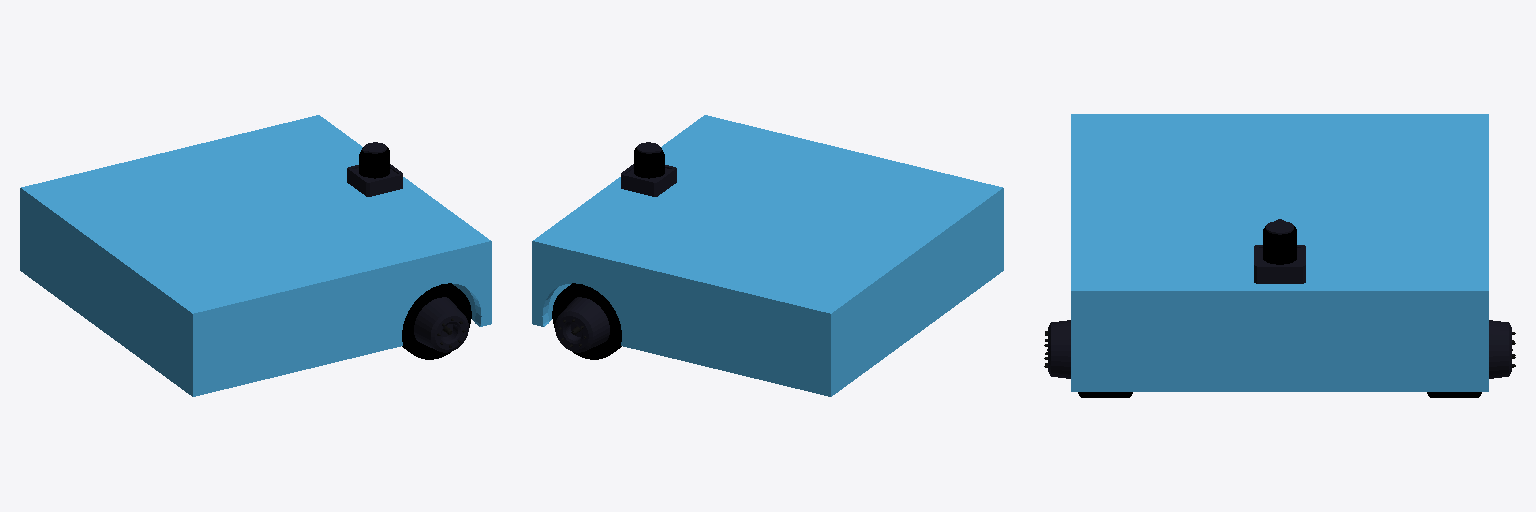
robot.urdf — LidarRobot1:
<?xml version="1.0"?>
<robot name="LidarRobot1">
<!--base-->
    <!--base_footprint-->
    <link name="base_footprint" />

    <!--base_joint-->
    <joint name="base_joint" type="fixed">
        <origin xyz="0 0 0" rpy="0 0 0" />
        <parent link="base_footprint" />
        <child link="base_link" />
    </joint>

    <!--base_link-->
    <link name="base_link">
        <visual>
            <origin xyz="0 0 0" rpy="0 0 0" />
            <geometry>
                <mesh filename="package://LidarRobot1_description/meshes/LidarRobot1_base.dae" />
            </geometry>
        </visual>

        <collision>
            <origin xyz="0 0 0" rpy="0 0 0" />
            <geometry>
                <mesh filename="package://LidarRobot1_description/meshes/LidarRobot1_base.dae" />
            </geometry>
        </collision>

        <inertial>
            <origin xyz="0 0 0.13" rpy="0 0 0" />
            <mass value="2" />
            <inertia ixx="0.06427" iyy="0.06427" izz="0.12000" ixy="0" ixz="0" iyz="0" /><!--<box size="0.6 0.6 0.16" />-->
        </inertial>
    </link>

    <!--base_gazebo-->
    <gazebo reference="base_link">
        <selfCollide>false</selfCollide>
        <mu1 value="0.5" />
        <mu2 value="0.5" />
    </gazebo>

<!--wheels-->
  <!--left-->
    <!--leftWheel_joint-->
    <joint name="leftWheel_joint" type="continuous">
        <axis xyz="0 1 0" />
        <origin xyz="0.2 0.25 0.07" rpy="0 0 0" />
        <parent link="base_link" />
        <child link="leftWheel_link" />
        <dynamics damping="1" friction="100" />
    </joint>

    <!--leftWheel_link-->
    <link name="leftWheel_link">
        <visual>
            <origin xyz="0 0 0" rpy="0 0 0" />
            <geometry>
                <mesh filename="package://LidarRobot1_description/meshes/LidarRobot1_leftWheel.dae" />
            </geometry>
        </visual>

        <collision>
            <origin xyz="0 0 0" rpy="0 0 0" />
            <geometry>
                <mesh filename="package://LidarRobot1_description/meshes/LidarRobot1_leftWheel.dae" />
            </geometry>
        </collision>

        <inertial>
            <origin xyz="0 0 0" rpy="1.57 0 0" />
            <mass value="0.4" />
            <inertia ixx="0.00070" iyy="0.00070" izz="0.00098" ixy="0" ixz="0" iyz="0" /><!--<cylinder length="0.08" radius="0.07" />-->
        </inertial>
    </link>

    <!--leftWheel_trans-->
    <transmission name="leftWheel_trans">
        <type>transmission_interface/SimpleTransmission</type>
        <joint name="leftWheel_joint">
            <hardwareInterface>hardware_interface/VelocityJointInterface</hardwareInterface>
        </joint>
        <actuator name="leftWheel_motor">
            <hardwareInterface>hardware_interface/VelocityJointInterface</hardwareInterface>
            <mechanicalReduction>30</mechanicalReduction>
        </actuator>
    </transmission>

    <!--leftWheel_gazebo-->
    <gazebo reference="leftWheel_link">
        <selfCollide>false</selfCollide>
        <mu1 value="0.9" />
        <mu2 value="0.9" />
    </gazebo>

  <!--right-->
    <!--rightWheel_joint-->
    <joint name="rightWheel_joint" type="continuous">
        <axis xyz="0 1 0" />
        <origin xyz="0.2 -0.25 0.07" rpy="0 0 0" />
        <parent link="base_link" />
        <child link="rightWheel_link" />
        <dynamics damping="1" friction="100" />
    </joint>

    <!--rightWheel_link-->
    <link name="rightWheel_link">
        <visual>
            <origin xyz="0 0 0" rpy="0 0 3.14" />
            <geometry>
                <mesh filename="package://LidarRobot1_description/meshes/LidarRobot1_leftWheel.dae" />
            </geometry>
        </visual>
        
        <collision>
            <origin xyz="0 0 0" rpy="0 0 3.14" />
            <geometry>
                <mesh filename="package://LidarRobot1_description/meshes/LidarRobot1_leftWheel.dae" />
            </geometry>
        </collision>

        <inertial>
            <origin xyz="0 0 0" rpy="1.57 0 0" />
            <mass value="0.4" />
            <inertia ixx="0.00070" iyy="0.00070" izz="0.00098" ixy="0" ixz="0" iyz="0" /><!--<cylinder length="0.08" radius="0.07" />-->
        </inertial>
    </link>

    <!--rightWheel_trans-->
    <transmission name="rightWheel_trans">
        <type>transmission_interface/SimpleTransmission</type>
        <joint name="rightWheel_joint">
            <hardwareInterface>hardware_interface/VelocityJointInterface</hardwareInterface>
        </joint>
        <actuator name="rightWheel_motor">
            <hardwareInterface>hardware_interface/VelocityJointInterface</hardwareInterface>
            <mechanicalReduction>30</mechanicalReduction>
        </actuator>
    </transmission>

    <!--rightWheel_gazebo-->
    <gazebo reference="rightWheel_link">
        <selfCollide>false</selfCollide>
        <mu1 value="0.9" />
        <mu2 value="0.9" />
    </gazebo>

  <!--rear-->
    <!--trackleWheelConector_joint-->
    <joint name="trackleWheelConector_joint" type="fixed">
        <origin xyz="-0.2 0 0.03" rpy="0 0 0" />
        <parent link="base_link" />
        <child link="trackleWheelConector_link" />
    </joint>

    <!--trackleWheelConector_link-->
    <link name="trackleWheelConector_link">
        <visual>
            <origin xyz="0 0 0" rpy="0 0 0" />
            <geometry>
                <mesh filename="package://LidarRobot1_description/meshes/LidarRobot1_trackleWheelConector.dae" />
            </geometry>
        </visual>

        <collision>
            <origin xyz="0 0 0" rpy="0 0 0" />
            <geometry>
                <mesh filename="package://LidarRobot1_description/meshes/LidarRobot1_trackleWheelConector.dae" />
            </geometry>
        </collision>

        <inertial>
            <origin xyz="0 0 0" rpy="0 0 0" />
            <mass value="0.1" />
            <inertia ixx="0.00009" iyy="0.00009" izz="0.00002" ixy="0" ixz="0" iyz="0" /><!--<cylinder length="0.1" radius="0.02" />-->
        </inertial>
    </link>

    <!--trackleWheelConector_gazebo-->
    <gazebo reference="trackleWheelConector_link">
        <selfCollide>false</selfCollide>
        <mu1 value="0.5" />
        <mu2 value="0.5" />
    </gazebo>

    <!--trackleWheel_joint-->
    <joint name="trackleWheel_joint" type="fixed">
        <origin xyz="0 0 0" rpy="0 0 0" />
        <parent link="trackleWheelConector_link" />
        <child link="trackleWheel_link" />
    </joint>

    <!--trackleWheel_link-->
    <link name="trackleWheel_link">
        <visual>
            <origin xyz="0 0 0" rpy="0 0 0" />
            <geometry>
                <mesh filename="package://LidarRobot1_description/meshes/LidarRobot1_trackleWheel.dae" />
            </geometry>
        </visual>
        
        <collision>
            <origin xyz="0 0 0" rpy="0 0 0" />
            <geometry>
                <sphere radius="0.03" />
            </geometry>
        </collision>

        <inertial>
            <origin xyz="0 0 0" rpy="1.57 0 0" />
            <mass value="0.2" />
            <inertia ixx="0.00007" iyy="0.00007" izz="0.00009" ixy="0" ixz="0" iyz="0" /><!--<cylinder length="0.04" radius="0.03" />-->
        </inertial>
    </link>

    <!--trackleWheel_gazebo-->
    <gazebo reference="trackleWheel_link">
        <selfCollide>false</selfCollide>
        <mu1 value="0.1" />
        <mu2 value="0.1" />
    </gazebo>

<!--sensors-->
  <!--lrf-->
    <!--lrf_joint-->
    <joint name="lrf_joint" type="fixed">
        <origin xyz="0.24 0 0.245" rpy="0 0 0" />
        <parent link="base_link" />
        <child link="lrf_link" />
    </joint>

    <!--lrf_link-->
    <link name="lrf_link">
        <visual>
            <origin xyz="0 0 0" rpy="0 0 0" />
            <geometry>
                <mesh filename="package://LidarRobot1_description/meshes/LidarRobot1_lrf.dae" />
            </geometry>
        </visual>

        <collision>
            <origin xyz="0 0 0" rpy="0 0 0" />
            <geometry>
                <mesh filename="package://LidarRobot1_description/meshes/LidarRobot1_lrf.dae" />
            </geometry>
        </collision>

        <inertial>
            <origin xyz="0 0 0" rpy="0 0 0" />
            <mass value="0.4" />
            <inertia ixx="0.00023" iyy="0.00023" izz="0.00013" ixy="0" ixz="0" iyz="0" /><!--<cylinder length="0.07" radius="0.025" />-->
        </inertial>
    </link>

    <!--lrf_gazebo-->
    <gazebo reference="lrf_link">
        <selfCollide>false</selfCollide>
        <mu1 value="0.5" />
        <mu2 value="0.5" />

        <sensor type="ray" name="lrf_sensor">
            <pose>0 0 0 0 0 0</pose>
            <visualize>true</visualize>
            <update_rate>40</update_rate>
            <ray>
                <scan>
                    <horizontal>
                        <samples>720</samples>
                        <resolution>1</resolution>
                        <min_angle>-3.14</min_angle> <!--defined in rad-->
                        <max_angle>3.14</max_angle> <!--defined in rad-->
                    </horizontal>
                </scan>
                <range>
                    <min>0.1</min>
                    <max>60</max>
                    <resolution>0.01</resolution>
                </range>
                <noise>
                    <type>gaussian</type>
                    <mean>0</mean>
                    <stddev>0.03</stddev>
                </noise>
            </ray>
            <plugin name="gazebo_ros_lrf_controller" filename="libgazebo_ros_laser.so">
                <topicName>/scan</topicName>
                <frameName>lrf_link</frameName>
            </plugin>
        </sensor>
    </gazebo>

<!--gazebo-->
    <!--gazebo_plugin-->
    <gazebo>
        <plugin name="gazebo_ros_control" filename="libgazebo_ros_control.so">
            <robotNamespace>/LidarRobot1</robotNamespace>
            <robotSimType>gazebo_ros_control/DefaultRobotHWSim</robotSimType>
            <legacyModeNS>true</legacyModeNS>
        </plugin>
    </gazebo>
</robot>

--- Facts derived from the render (not from the file) ---
3 views of the same robot in one strip: view 1: azimuth 30°, elevation 25°; view 2: azimuth 150°, elevation 25°; view 3: azimuth 270°, elevation 25° (orthographic).
Robot: LidarRobot1 — 7 links, 6 joints (2 continuous, 4 fixed); root link base_footprint; default pose: all joints at 0.
Visible links, largest first — view 1: base_link, rightWheel_link, lrf_link; view 2: base_link, leftWheel_link, lrf_link; view 3: base_link, lrf_link, rightWheel_link, leftWheel_link.
Link boxes in pixels (box(x1,y1,x2,y2)): base_link: box(20, 115, 491, 396); rightWheel_link: box(402, 283, 471, 359); lrf_link: box(347, 142, 402, 196); base_link: box(532, 115, 1003, 396); leftWheel_link: box(552, 283, 621, 359); lrf_link: box(621, 142, 676, 196); base_link: box(1071, 114, 1488, 391); lrf_link: box(1254, 219, 1305, 283); rightWheel_link: box(1044, 320, 1132, 397); leftWheel_link: box(1427, 320, 1515, 397).
Size in the robot's own frame: 0.6 by 0.6751 by 0.2828 metres.
Meshes: 5 distinct files referenced, 6 mesh visuals loaded (5 Collada DAE).
